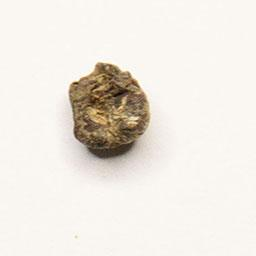defect: (62, 55, 155, 154)
